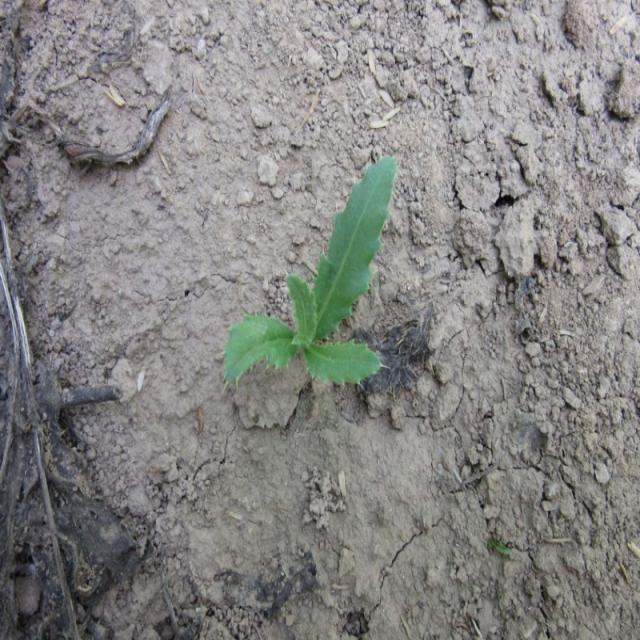cs: (219, 148, 397, 394)
